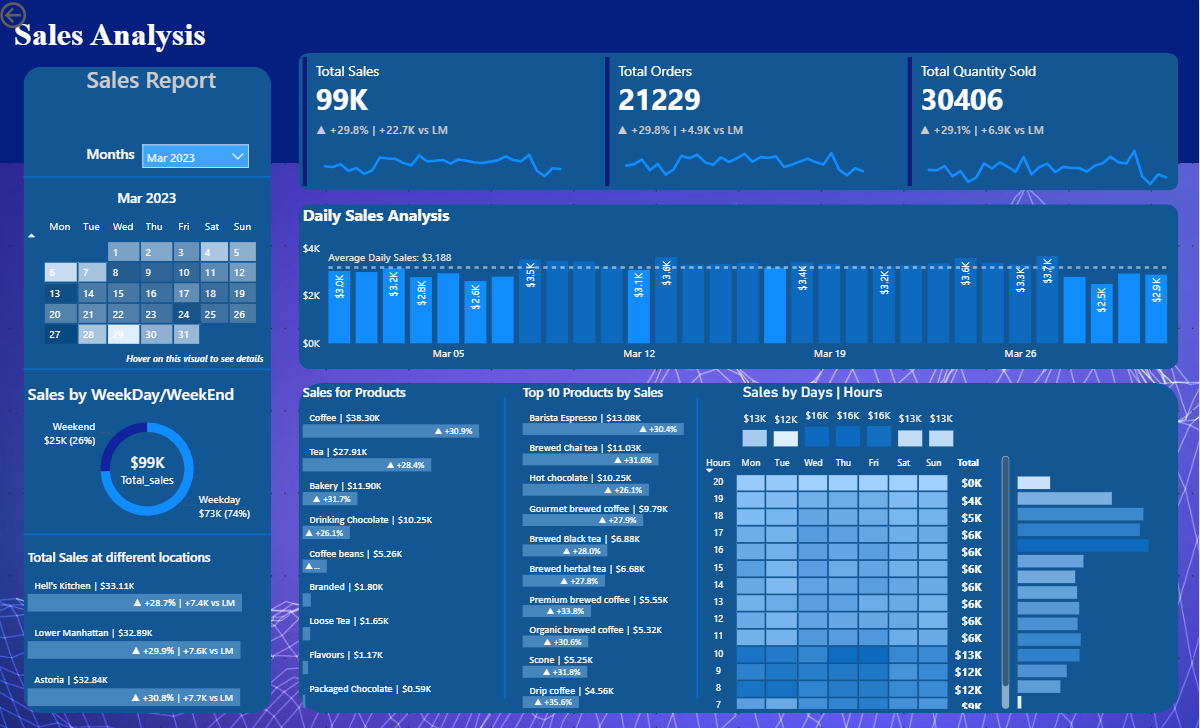

This screenshot's page, from the dashboard's own definition file:
{"tool":"powerbi","page":{"name":"Page 1","canvas":[1400,850],"ordinal":0},"visuals":[{"type":"shape","box":[-8,0,1408,192],"z":0},{"type":"shape","box":[32,80,288,752],"z":1000},{"type":"shape","box":[352,64,1024,160],"z":2000},{"type":"textbox","box":[16,16,288,64],"z":3000},{"type":"group","id":"g1","title":"Group 2","box":[704,64,320,160],"z":4000},{"type":"cardVisual","fields":{"Data":["Transactions.Total_order"]},"box":[704,64,320,160],"z":4000,"group":"g4"},{"type":"cardVisual","fields":{"Data":["Transactions.TotalQty_sold"]},"box":[1056,64,320,160],"z":4000,"group":"g5"},{"type":"cardVisual","fields":{"Data":["Transactions.Total_sales"]},"box":[352,64,320,160],"z":5000,"group":"g6"},{"type":"group","id":"g2","title":"Group 3","box":[1056,64,320,160],"z":5000},{"type":"group","id":"g3","title":"Group 1","box":[352,64,320,160],"z":6000},{"type":"lineChart","fields":{"Y":["Transactions.Total_sales"],"Category":["Table.Date Hierarchy.Date"]},"box":[368,144,304,80],"z":6000,"group":"g6"},{"type":"lineChart","fields":{"Category":["Table.Date Hierarchy.Date"],"Y":["Transactions.Total_order"]},"box":[718.5,144,305.5,80],"z":6000,"group":"g4"},{"type":"lineChart","fields":{"Category":["Table.Date Hierarchy.Date"],"Y":["Transactions.TotalQty_sold"]},"box":[1069.9,144,306.1,80],"z":6000,"group":"g5"},{"type":"group","id":"g4","title":"Group 4","box":[704,64,320,160],"z":6002,"group":"g1"},{"type":"group","id":"g5","title":"Group 5","box":[1056,64,320,160],"z":6002,"group":"g2"},{"type":"pivotTable","fields":{"Rows":["Date Table.Week number"],"Columns":["Date Table.Day name"],"Values":["Min(Date Table.Day number)"]},"box":[32,240,288,208],"z":7000},{"type":"actionButton","box":[0,0,100,40],"z":8000},{"type":"group","id":"g6","title":"Group 6","box":[352,64,320,160],"z":8002,"group":"g3"},{"type":"cardVisual","fields":{"Data":["Min(Date Table.Month Year)"]},"box":[128,208,96,48],"z":9000},{"type":"cardVisual","fields":{"Data":["Transactions.Foot note"]},"box":[144,400,176,32],"z":10000},{"type":"shape","box":[32,400,288,64],"z":11000},{"type":"shape","box":[32,176,288,64],"z":12000},{"type":"donutChart","title":"Sales by WeekDay/WeekEnd","fields":{"Category":["Date Table.WeekDay/WeekEnd"],"Y":["Transactions.Total_sales"]},"box":[32,448,288,176],"z":13000},{"type":"cardVisual","fields":{"Data":["Transactions.Total_sales"]},"box":[128,512,96,64],"z":14000},{"type":"clusteredBarChart","title":"Total Sales at different locations","fields":{"Category":["Transactions.store_location"],"Y":["Transactions.Placeholder","Transactions.Total_sales"]},"box":[32,640,288,192],"z":15000},{"type":"shape","box":[32,592,288,64],"z":16000},{"type":"shape","box":[352,240,1024,192],"z":17000},{"type":"shape","box":[352,448,1024,384],"z":18000},{"type":"columnChart","title":"Daily Sales Analysis","fields":{"Category":["Transactions.transaction_date"],"Y":["Transactions.Total_sales"]},"box":[352,240,1024,192],"z":19000},{"type":"clusteredBarChart","title":"Sales for Products","fields":{"Y":["Transactions.Placeholder","Transactions.Total_sales"],"Category":["Transactions.product_category"]},"box":[352,448,240,384],"z":20000},{"type":"shape","box":[576,464,32,352],"z":21000},{"type":"clusteredBarChart","title":"Top 10 Products by Sales","fields":{"Y":["Transactions.Placeholder","Transactions.Total_sales"],"Category":["Transactions.product_type"]},"box":[608,448,224,384],"z":22000},{"type":"shape","box":[800,464,32,352],"z":23000},{"type":"pivotTable","fields":{"Rows":["Transactions.Hours"],"Columns":["Date Table.Day name"],"Values":["Transactions.Total_sales"]},"box":[816,528,368,304],"z":24000},{"type":"barChart","fields":{"Category":["Transactions.Hours"],"Y":["Transactions.Total_sales"]},"box":[1184,544,192,288],"z":25000},{"type":"columnChart","title":"Sales by Days | Hours","fields":{"Y":["Transactions.Total_sales"],"Category":["Date Table.Day name"]},"box":[864,448,256,80],"z":26000},{"type":"slicer","fields":{"Values":["Date Table.Month Year"]},"box":[160,160,144,48],"z":27000},{"type":"textbox","box":[100.4,71.3,181.8,49.5],"z":28000},{"type":"textbox","box":[33.5,117.8,94.5,42.2],"z":29000},{"type":"textbox","box":[100.4,164.4,75.6,43.6],"z":29001}]}

Visuals, with their boxes in screenshot pixels (x1, y1, x2, y2), scaled from the page's 1400x850 canvas onto the 1200x728 screenshot:
shape: [left=0, top=0, right=1199, bottom=164]
shape: [left=27, top=69, right=274, bottom=713]
shape: [left=302, top=55, right=1179, bottom=192]
textbox: [left=14, top=14, right=261, bottom=69]
"Group 2" group: [left=603, top=55, right=878, bottom=192]
cardVisual - Transactions.Total_order: [left=603, top=55, right=878, bottom=192]
cardVisual - Transactions.TotalQty_sold: [left=905, top=55, right=1179, bottom=192]
cardVisual - Transactions.Total_sales: [left=302, top=55, right=576, bottom=192]
"Group 3" group: [left=905, top=55, right=1179, bottom=192]
"Group 1" group: [left=302, top=55, right=576, bottom=192]
lineChart - Transactions.Total_sales x Table.Date Hierarchy.Date: [left=315, top=123, right=576, bottom=192]
lineChart - Table.Date Hierarchy.Date x Transactions.Total_order: [left=616, top=123, right=878, bottom=192]
lineChart - Table.Date Hierarchy.Date x Transactions.TotalQty_sold: [left=917, top=123, right=1179, bottom=192]
"Group 4" group: [left=603, top=55, right=878, bottom=192]
"Group 5" group: [left=905, top=55, right=1179, bottom=192]
pivotTable - Date Table.Week number x Date Table.Day name: [left=27, top=206, right=274, bottom=384]
actionButton: [left=0, top=0, right=86, bottom=34]
"Group 6" group: [left=302, top=55, right=576, bottom=192]
cardVisual - Min(Date Table.Month Year): [left=110, top=178, right=192, bottom=219]
cardVisual - Transactions.Foot note: [left=123, top=343, right=274, bottom=370]
shape: [left=27, top=343, right=274, bottom=397]
shape: [left=27, top=151, right=274, bottom=206]
"Sales by WeekDay/WeekEnd" donutChart: [left=27, top=384, right=274, bottom=534]
cardVisual - Transactions.Total_sales: [left=110, top=439, right=192, bottom=493]
"Total Sales at different locations" clusteredBarChart: [left=27, top=548, right=274, bottom=713]
shape: [left=27, top=507, right=274, bottom=562]
shape: [left=302, top=206, right=1179, bottom=370]
shape: [left=302, top=384, right=1179, bottom=713]
"Daily Sales Analysis" columnChart: [left=302, top=206, right=1179, bottom=370]
"Sales for Products" clusteredBarChart: [left=302, top=384, right=507, bottom=713]
shape: [left=494, top=397, right=521, bottom=699]
"Top 10 Products by Sales" clusteredBarChart: [left=521, top=384, right=713, bottom=713]
shape: [left=686, top=397, right=713, bottom=699]
pivotTable - Transactions.Hours x Date Table.Day name: [left=699, top=452, right=1015, bottom=713]
barChart - Transactions.Hours x Transactions.Total_sales: [left=1015, top=466, right=1179, bottom=713]
"Sales by Days | Hours" columnChart: [left=741, top=384, right=960, bottom=452]
slicer - Date Table.Month Year: [left=137, top=137, right=261, bottom=178]
textbox: [left=86, top=61, right=242, bottom=103]
textbox: [left=29, top=101, right=110, bottom=137]
textbox: [left=86, top=141, right=151, bottom=178]
